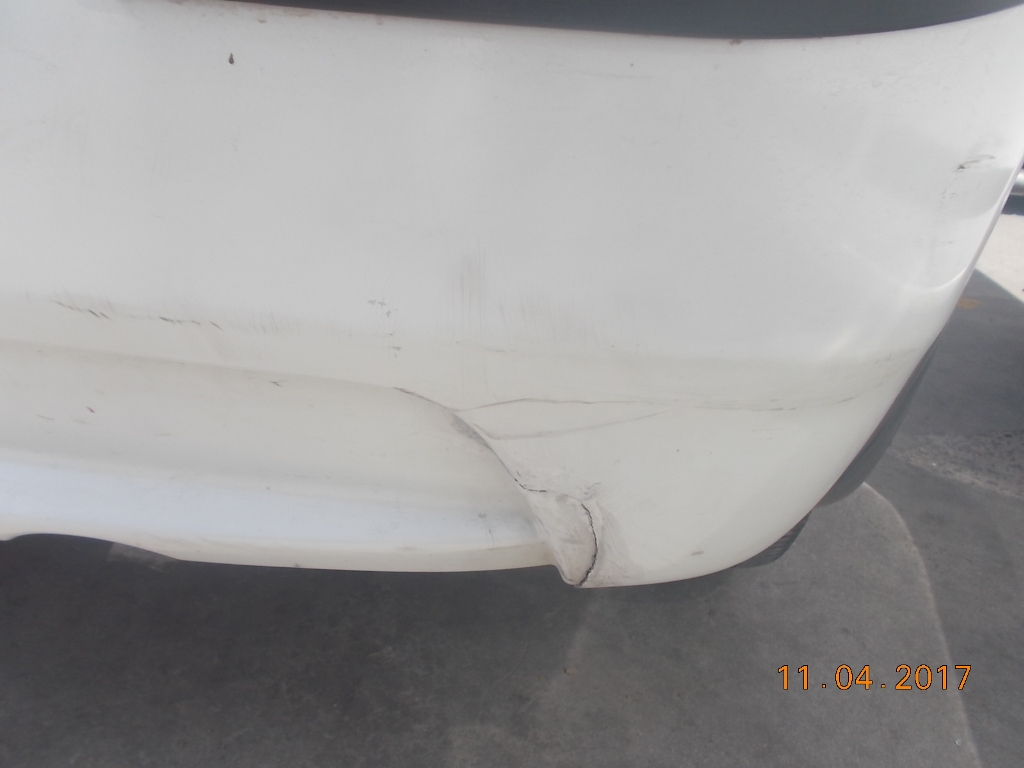Tear: (563, 493, 613, 580)
